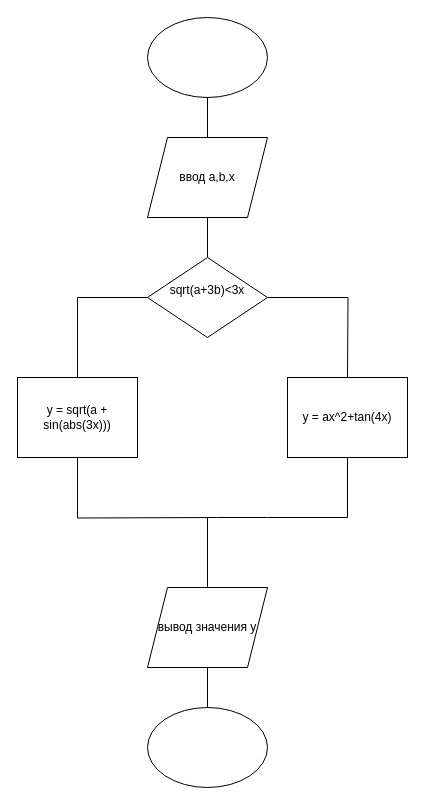
Some shapes in this 425 by 805 pixel diagram are drawn without their labels. The shapes that lost their labels are listed below. From the top down, each one's box as (x1, y1, x2, y2) in pixels, then its label:
(146, 16, 268, 98): Начало
(146, 706, 268, 788): Конец
